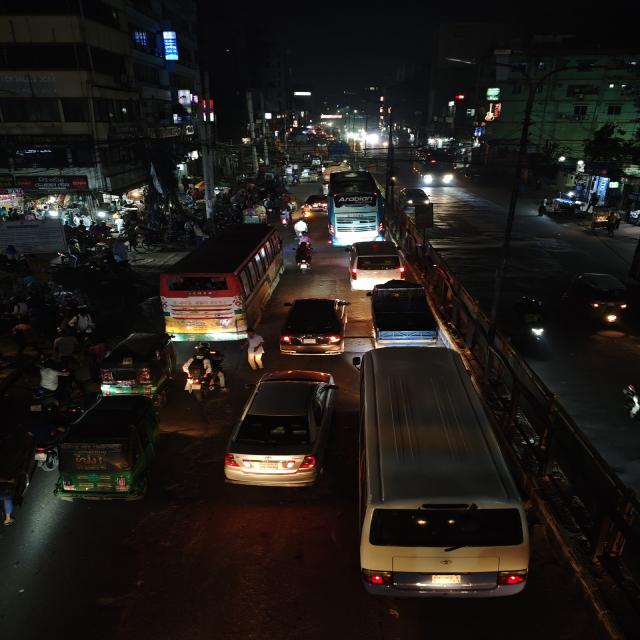bus: (351, 357, 528, 600), (156, 221, 285, 341), (324, 168, 385, 246), (410, 150, 459, 188)
car: (224, 369, 343, 489), (277, 294, 352, 356), (344, 239, 406, 289), (397, 185, 433, 210)
cng: (55, 394, 166, 507), (94, 330, 172, 399), (562, 269, 633, 329), (301, 192, 328, 215)
motorcycle: (179, 343, 228, 399), (513, 293, 551, 354), (241, 328, 267, 370), (294, 240, 316, 274), (292, 217, 311, 239), (278, 205, 293, 227)
pedestrian: (29, 361, 71, 416), (49, 326, 82, 364), (9, 322, 40, 354), (538, 196, 547, 218)
pickup_van: (364, 280, 446, 350)
